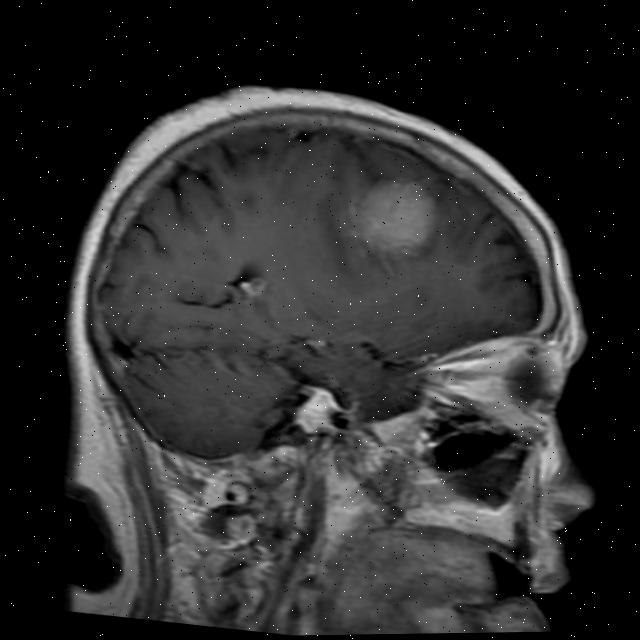Meningioma: (350, 169, 446, 265)
